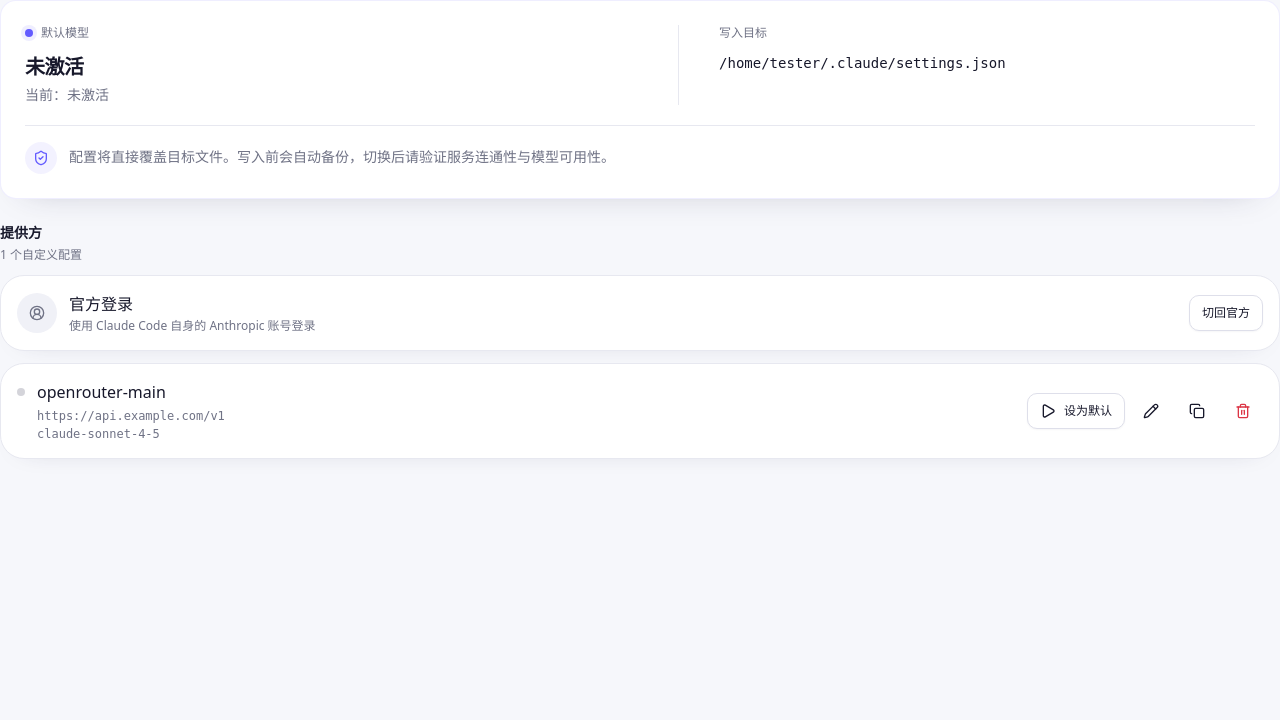
Scenario: warns that an additive harness also loses its provider entry
Click the button named "删除 openrouter-main" at (1243, 411), box [1223, 391, 1263, 431]
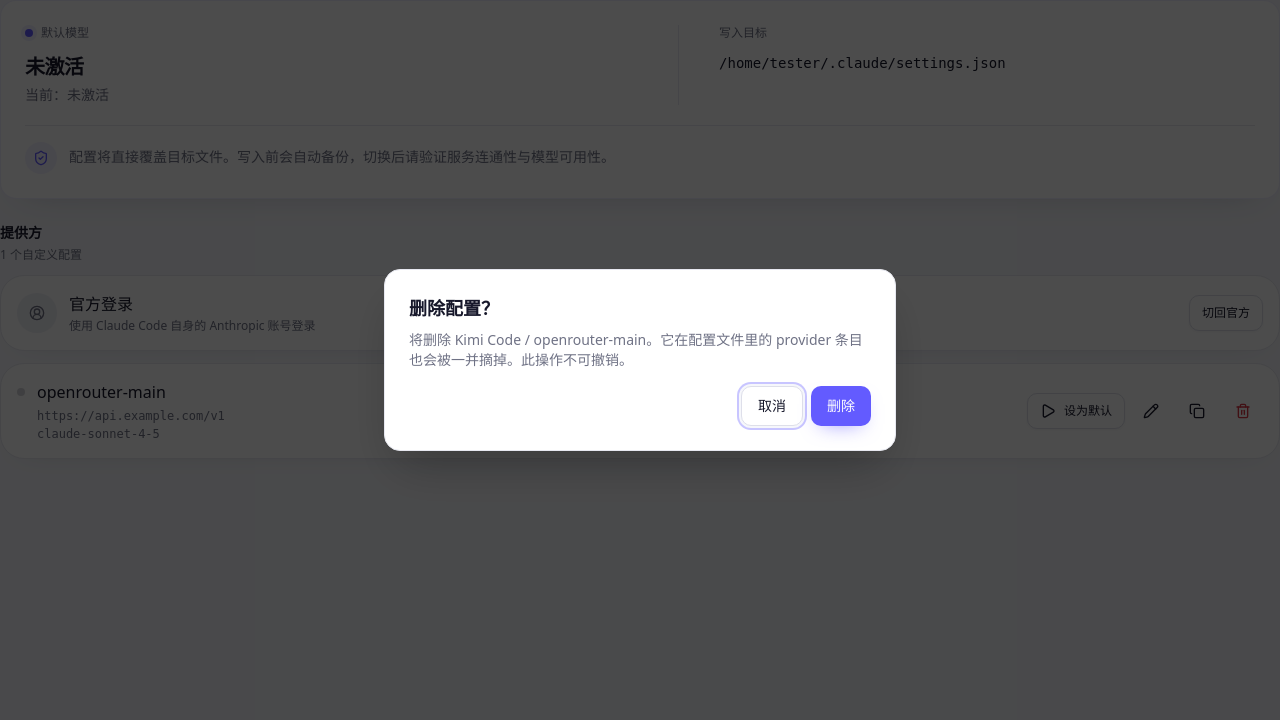
Now the text "provider 条目也会被一并摘掉" is shown, box [409, 330, 863, 369]
